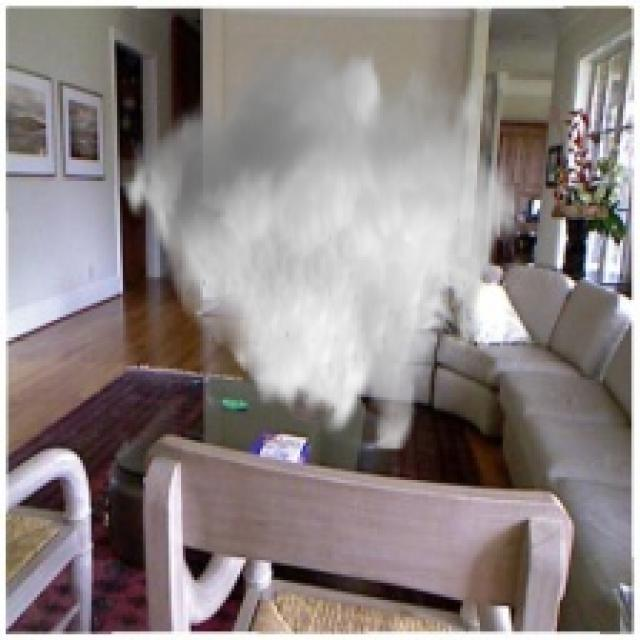smoke: (114, 34, 517, 452)
